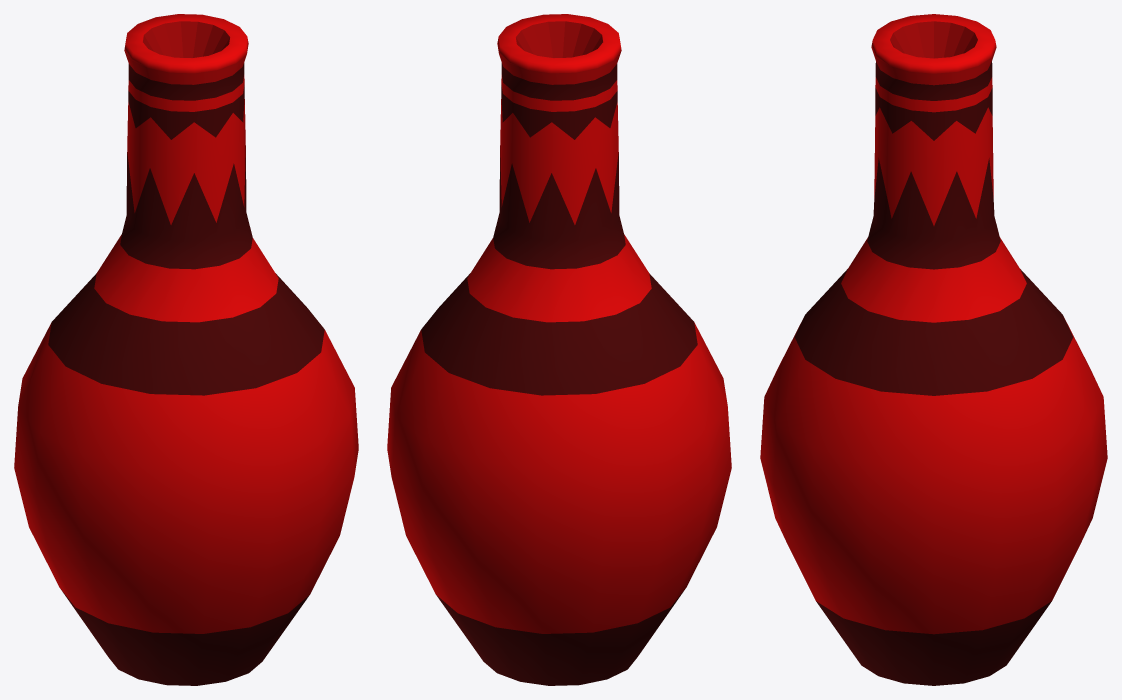
The model's file is Vase004.glb.
3 views of the same model, side by side, from view 1: azimuth 30°, elevation 25°; view 2: azimuth 150°, elevation 25°; view 3: azimuth 270°, elevation 25° (orthographic).
Visible parts, largest first — view 1: Vase004; view 2: Vase004; view 3: Vase004.
Boxes of the visible parts, box(x1,y1,x2,y2) form: Vase004: box(14, 14, 358, 685); Vase004: box(387, 14, 731, 685); Vase004: box(760, 14, 1107, 685).
Size of the model in its own units: 1.94 by 3.78 by 1.94.
